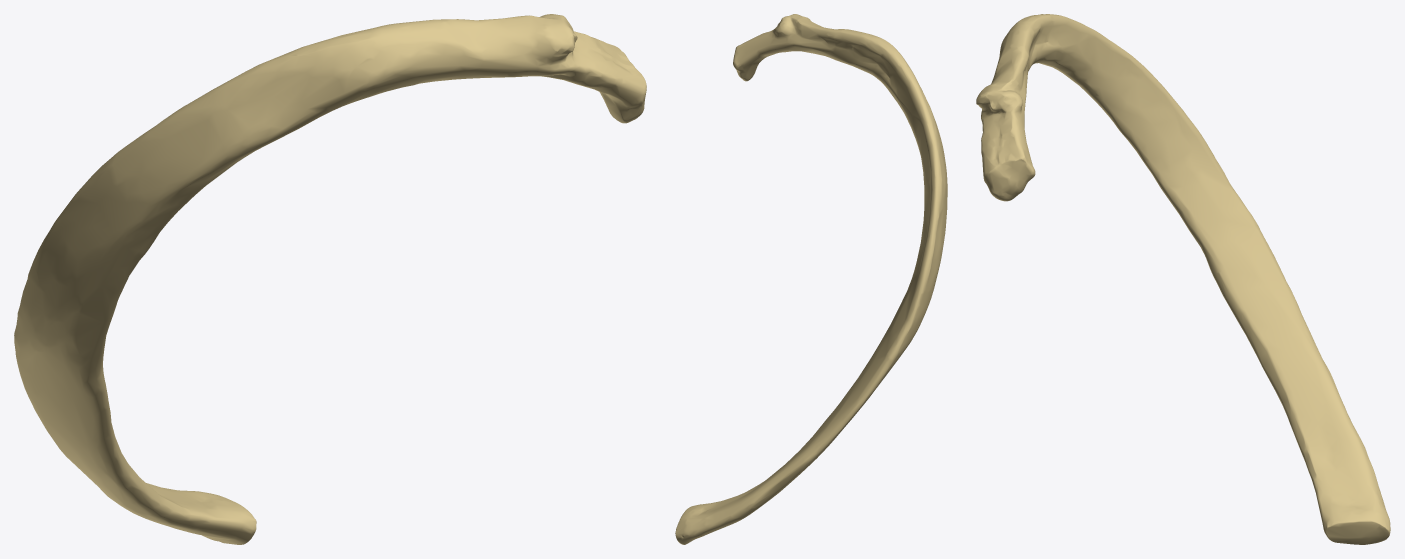
The picture shows the model from 3 angles, left to right: view 1: azimuth 30°, elevation 25°; view 2: azimuth 150°, elevation 25°; view 3: azimuth 270°, elevation 25°; orthographic projection. The views are drawn at different scales.
Parts seen in each view (by area): view 1: 右侧第三肋; view 2: 右侧第三肋; view 3: 右侧第三肋.
Part boxes in pixels (x1,y1,x2,y2): 右侧第三肋: (14, 14, 646, 544); 右侧第三肋: (675, 14, 947, 544); 右侧第三肋: (976, 14, 1390, 544).
Bounding box in the file's own units: 0.1407 × 0.2051 × 0.1559.
